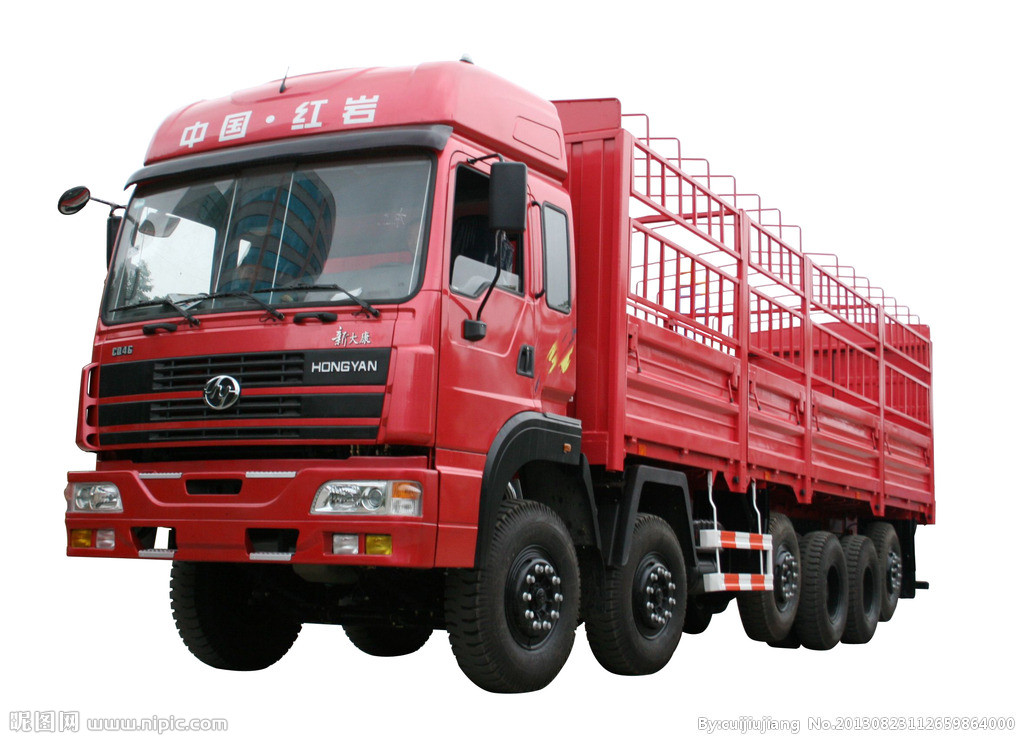truck: (50, 61, 970, 698)
